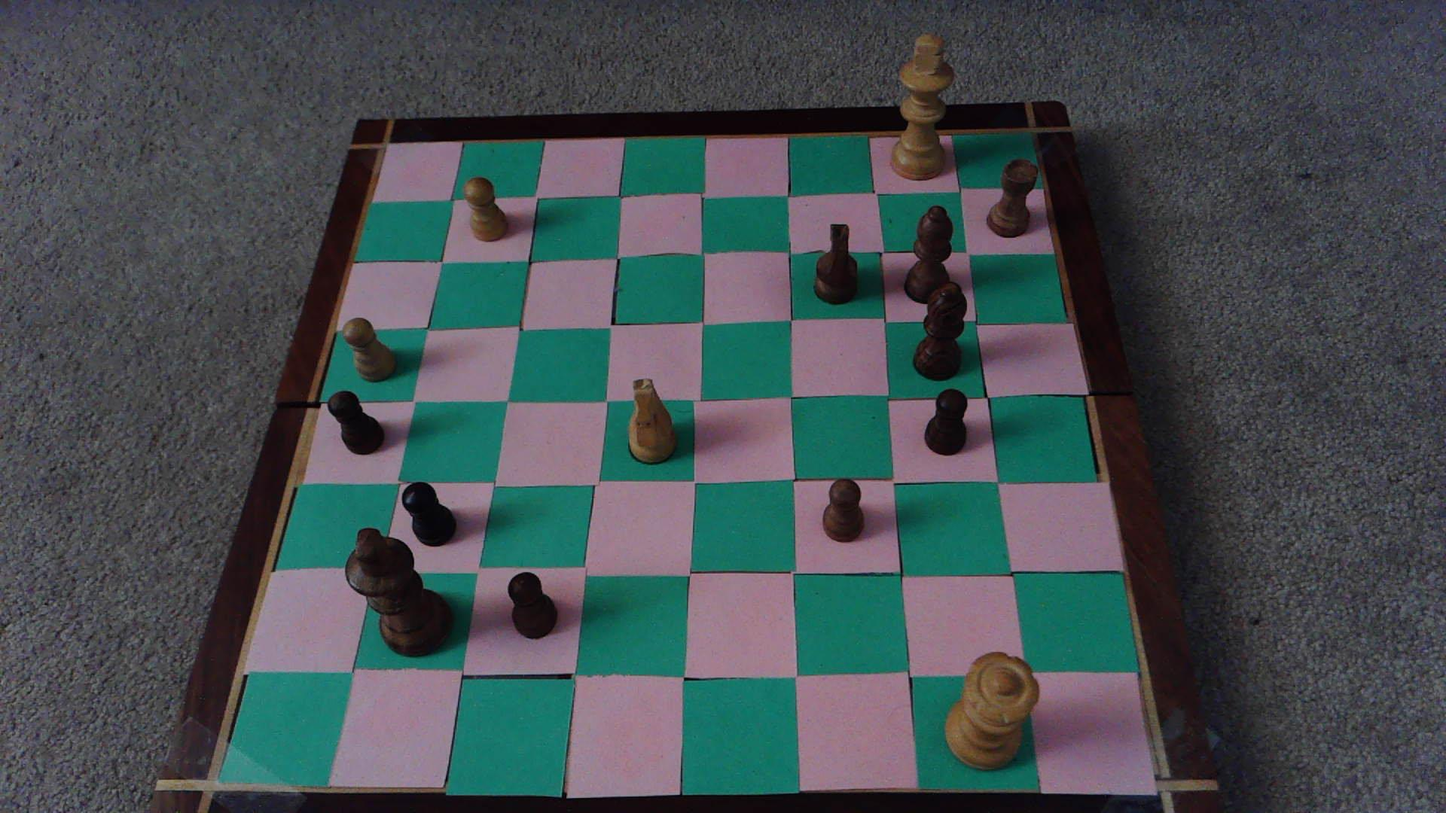dark_piece: (345, 528, 450, 656), (911, 283, 968, 380), (904, 206, 953, 303), (985, 157, 1039, 238), (328, 391, 383, 454), (402, 482, 455, 546), (815, 225, 857, 303), (508, 572, 557, 636), (925, 389, 966, 454), (822, 479, 863, 541)
white_piece: (945, 652, 1038, 769), (890, 34, 954, 180), (629, 379, 676, 461), (343, 318, 395, 381), (464, 175, 509, 243)
